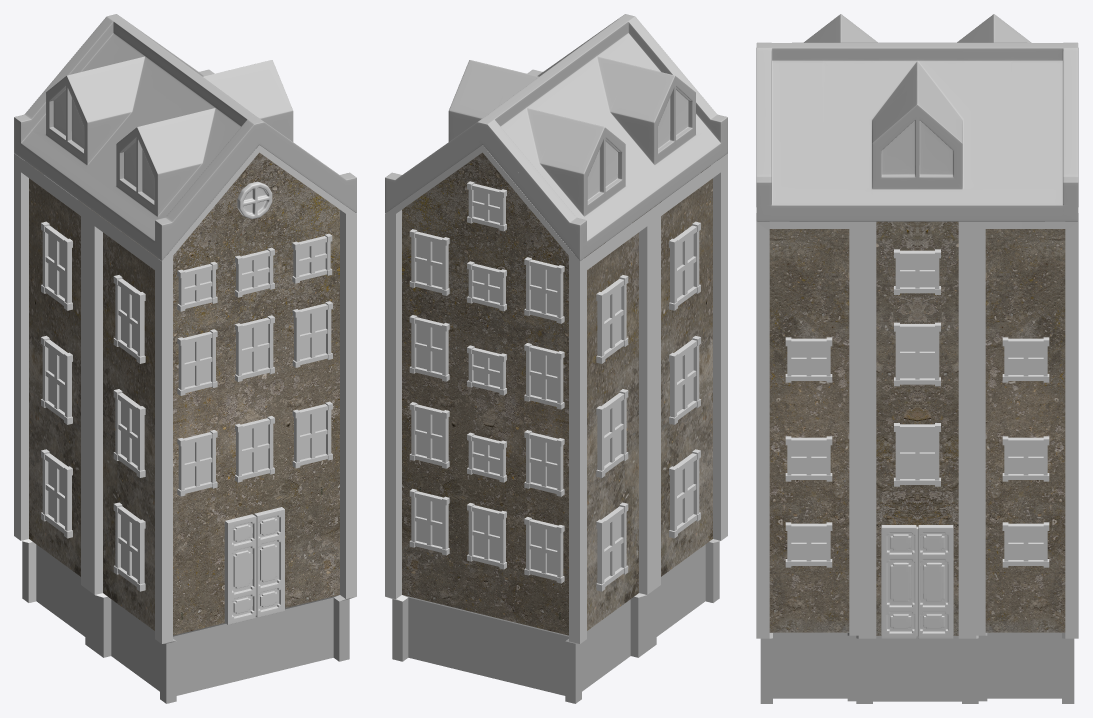
The model's file is House2Texture.fbx.
The picture shows the model from 3 angles, left to right: view 1: azimuth 30°, elevation 25°; view 2: azimuth 150°, elevation 25°; view 3: azimuth 270°, elevation 25°; orthographic projection. The views are drawn at different scales.
Visible parts, largest first — view 1: BaseHouse2.004, Roof.001, DoorHouse2.007, WindowLShortSide.059, WindowLShortSide.062, WindowLShortSide.060, WindowLShortSide.063, WindowLShortSide.061, WindowLShortSide.064, WindowLBroadSide.026, WindowLBroadSide.022, WindowLBroadSide.021 (+7 smaller); view 2: BaseHouse2.004, Roof.001, WindowRShortSide.016, WindowRShortSide.015, WindowRShortSide.017, WindowRShortSide.020, WindowRShortSide.023, WindowRShortSide.024, WindowRShortSide.018, WindowRShortSide.021, WindowRShortSide.025, WindowLBroadSide.023 (+9 smaller); view 3: BaseHouse2.004, Roof.001, DoorHouse2.008, WindowRBroadSide.027, WindowRBroadSide.024, WindowRBroadSide.030, WindowRBroadSide.025, WindowRBroadSide.026, WindowRBroadSide.028, WindowRBroadSide.029, WindowRBroadSide.031, WindowRBroadSide.032.
Part boxes in pixels (left/top/right/bottom): BaseHouse2.004: left=14, top=145, right=356, bottom=703; Roof.001: left=14, top=14, right=356, bottom=260; DoorHouse2.007: left=224, top=507, right=284, bottom=624; WindowLShortSide.059: left=177, top=430, right=217, bottom=496; WindowLShortSide.062: left=177, top=329, right=217, bottom=395; WindowLShortSide.060: left=292, top=401, right=332, bottom=468; WindowLShortSide.063: left=292, top=301, right=332, bottom=367; WindowLShortSide.061: left=235, top=416, right=274, bottom=482; WindowLShortSide.064: left=235, top=315, right=274, bottom=381; WindowLBroadSide.026: left=113, top=502, right=145, bottom=591; WindowLBroadSide.022: left=113, top=389, right=145, bottom=477; WindowLBroadSide.021: left=113, top=275, right=145, bottom=363; BaseHouse2.004: left=385, top=145, right=727, bottom=703; Roof.001: left=385, top=14, right=727, bottom=260; WindowRShortSide.016: left=409, top=315, right=449, bottom=381; WindowRShortSide.015: left=524, top=343, right=564, bottom=409; WindowRShortSide.017: left=524, top=257, right=564, bottom=323; WindowRShortSide.020: left=524, top=430, right=564, bottom=496; WindowRShortSide.023: left=524, top=517, right=564, bottom=583; WindowRShortSide.024: left=409, top=488, right=449, bottom=555; WindowRShortSide.018: left=409, top=229, right=449, bottom=295; WindowRShortSide.021: left=409, top=402, right=449, bottom=468; WindowRShortSide.025: left=467, top=503, right=506, bottom=569; WindowLBroadSide.023: left=596, top=502, right=628, bottom=591; BaseHouse2.004: left=756, top=207, right=1078, bottom=703; Roof.001: left=756, top=14, right=1078, bottom=221; DoorHouse2.008: left=881, top=525, right=953, bottom=638; WindowRBroadSide.027: left=894, top=322, right=940, bottom=386; WindowRBroadSide.024: left=894, top=423, right=940, bottom=486; WindowRBroadSide.030: left=894, top=249, right=940, bottom=294; WindowRBroadSide.025: left=785, top=436, right=832, bottom=481; WindowRBroadSide.026: left=1002, top=436, right=1049, bottom=481; WindowRBroadSide.028: left=785, top=337, right=832, bottom=382; WindowRBroadSide.029: left=1002, top=337, right=1049, bottom=382; WindowRBroadSide.031: left=785, top=522, right=832, bottom=567; WindowRBroadSide.032: left=1002, top=522, right=1049, bottom=567.
Bounding box in the file's own units: 1611 × 4388 × 2100.
